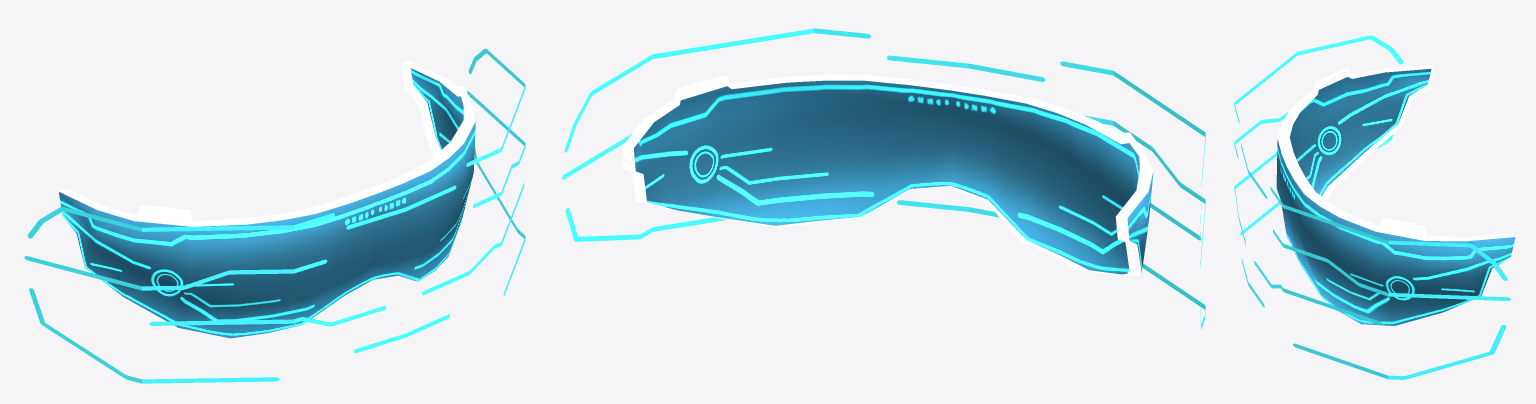
File: Moon1.glb
3 renders of one model, left to right at view 1: azimuth 30°, elevation 25°; view 2: azimuth 150°, elevation 25°; view 3: azimuth 270°, elevation 25°, orthographic. The views are drawn at different scales.
Parts seen in each view (by area): view 1: F_Eye_glasses; view 2: F_Eye_glasses; view 3: F_Eye_glasses.
Part boxes in pixels (box(x1,y1,x2,y2)): F_Eye_glasses: box(24, 48, 525, 383); F_Eye_glasses: box(562, 28, 1205, 329); F_Eye_glasses: box(1234, 35, 1515, 379).
Size of what is drawn, in the model's own units: 1 by 0.3302 by 0.5524.
Materials: 1 (1 with a texture image).
